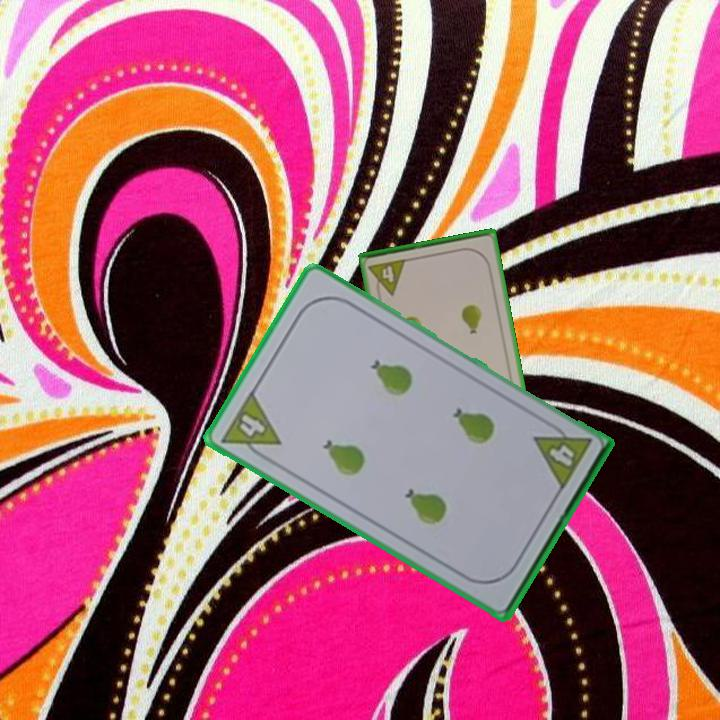4p: (217, 387, 284, 466), (530, 417, 594, 494), (365, 255, 409, 300)
